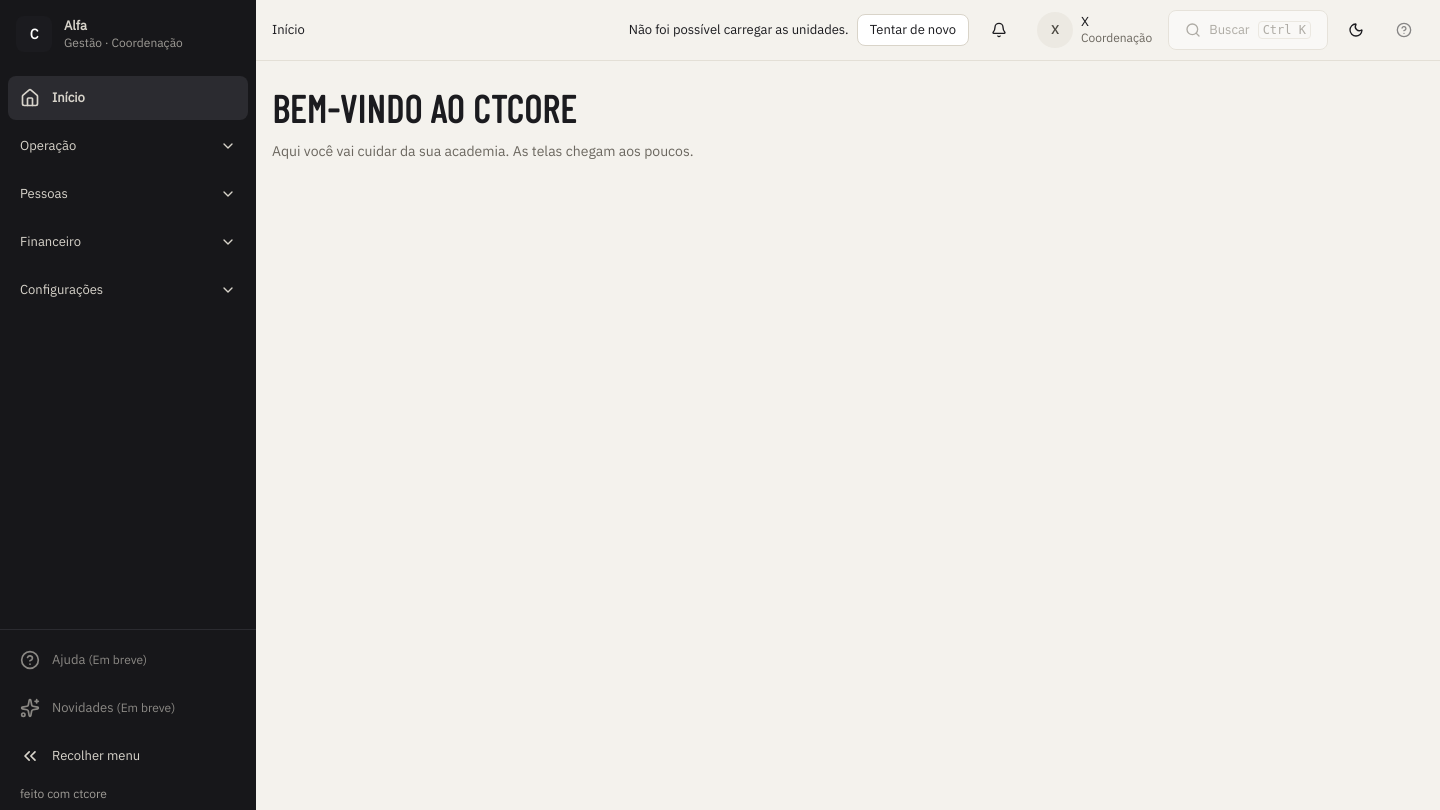
ManagementLayout › CA1/CA2/CA6: organização, área, contador de Pedidos e conta no desktop
Check: the text "Gestão · Coordenação" is shown, box [64,35,183,51]
Check: the text "Alfa" is shown, box [64,17,87,34]
Click the button "Pessoas" at (128,194), box [8,172,248,216]
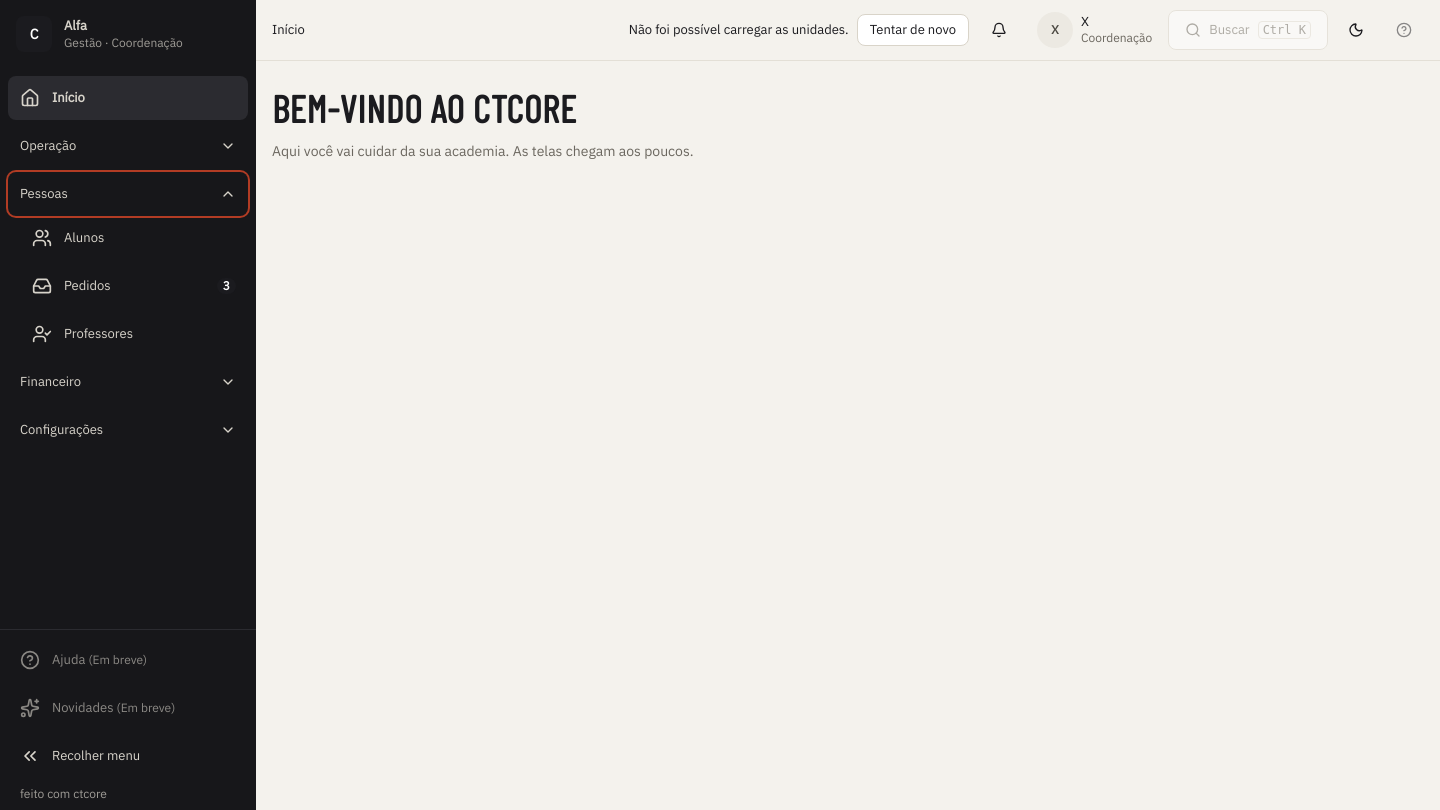
Check: the link named "Minha conta" is shown, box [1029,8,1160,52]
Check: the link "Pedidos 3" is shown, box [32,276,236,296]
